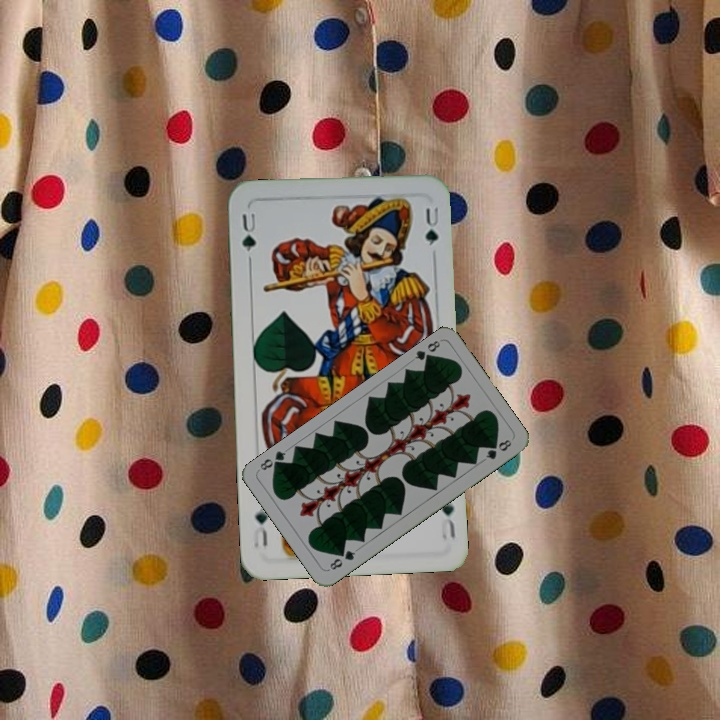G8: (411, 336, 443, 366), (325, 546, 358, 573)
GU: (238, 209, 259, 264), (437, 499, 458, 543)
